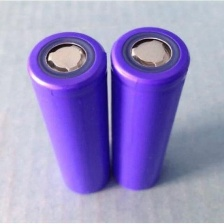battery: (24, 29, 113, 198), (107, 23, 191, 193)
